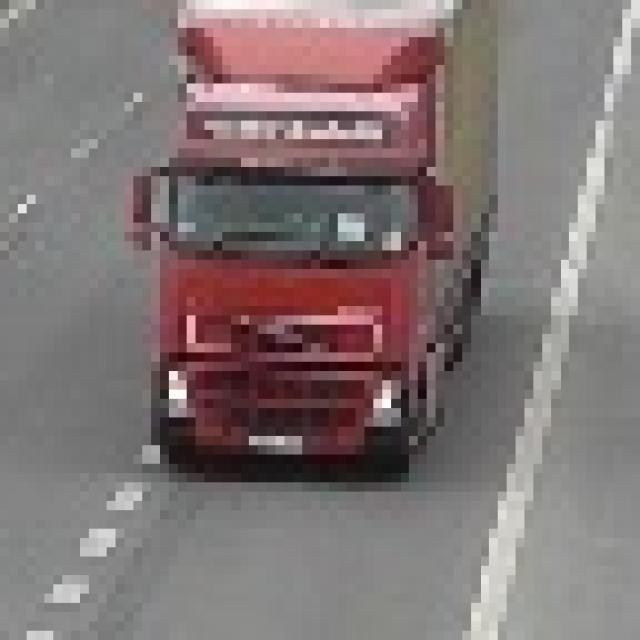TRUCK: (146, 0, 502, 480)
